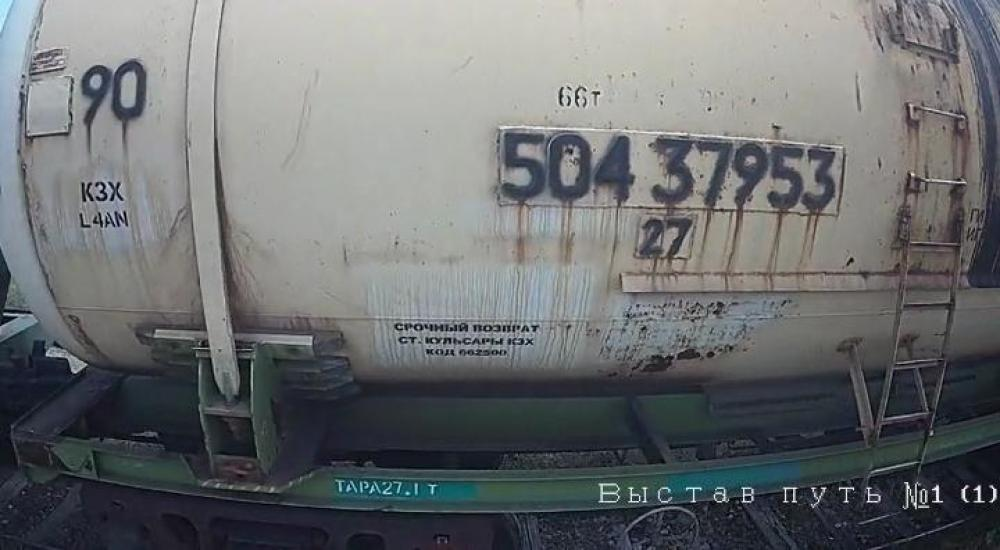Wagon-number: (495, 124, 841, 215)
